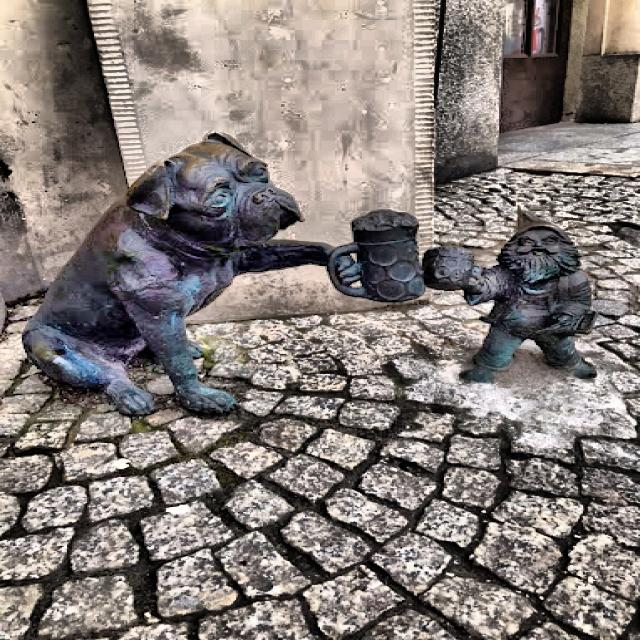Piwozlopek_ i_Piesel_Piwosz: (23, 134, 596, 414)
